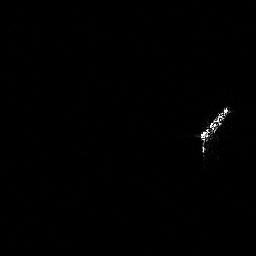ship: (195, 101, 234, 161)
